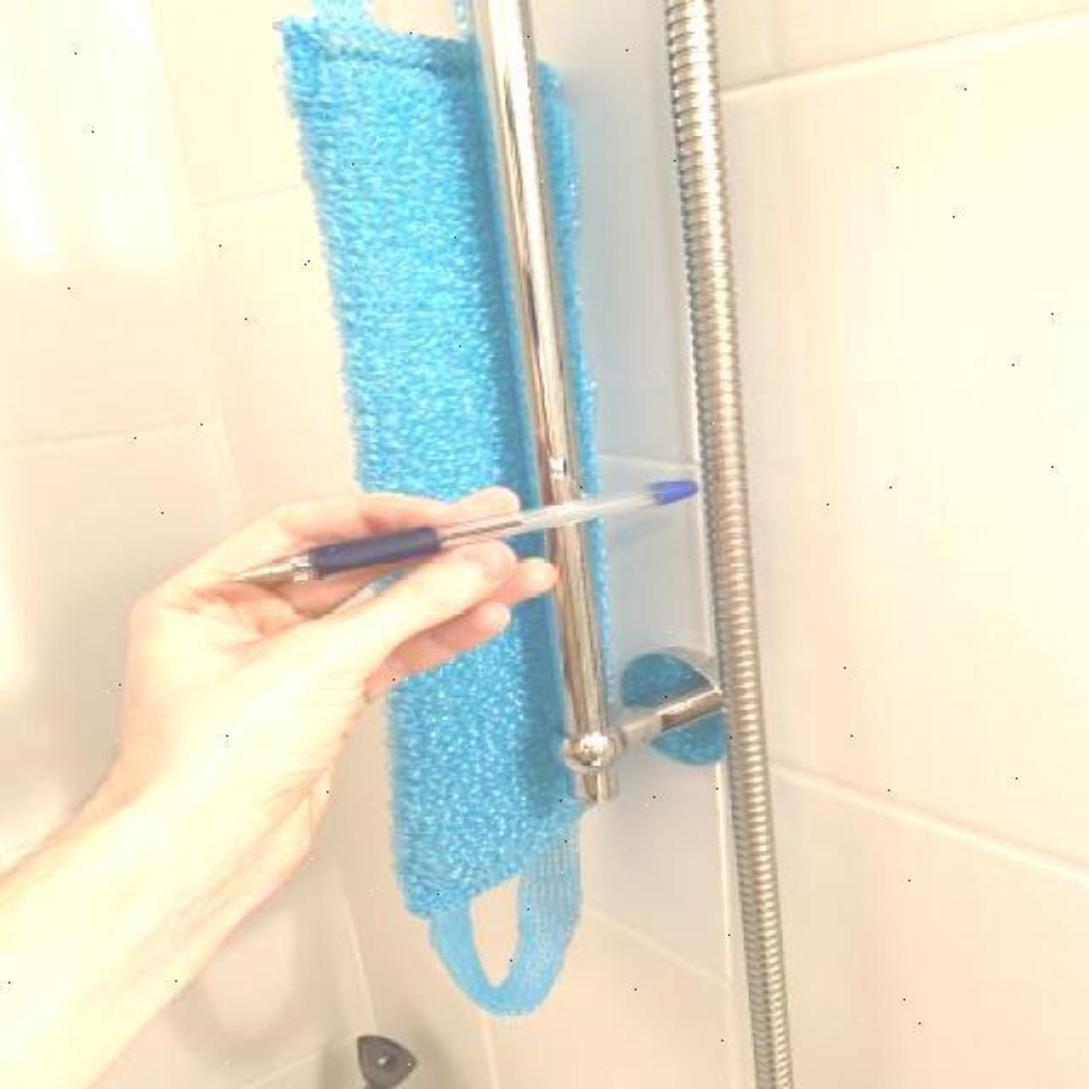pen: (228, 476, 704, 590)
